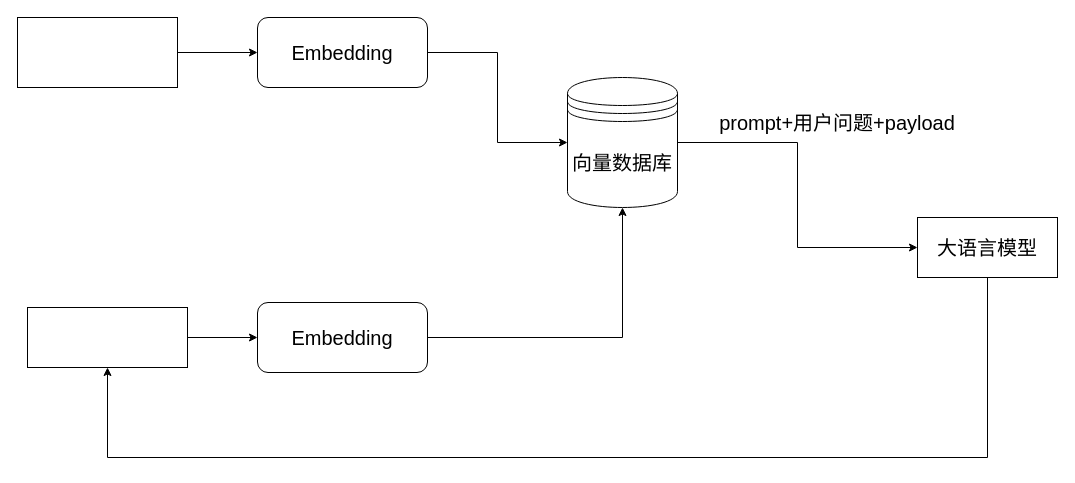
Some shapes in this 1075 by 483 pixel diagram are drawn without their labels. Each missing label, with the centre of its shape:
"原始数据" goes at point (97, 52).
"用户提问" goes at point (107, 337).
